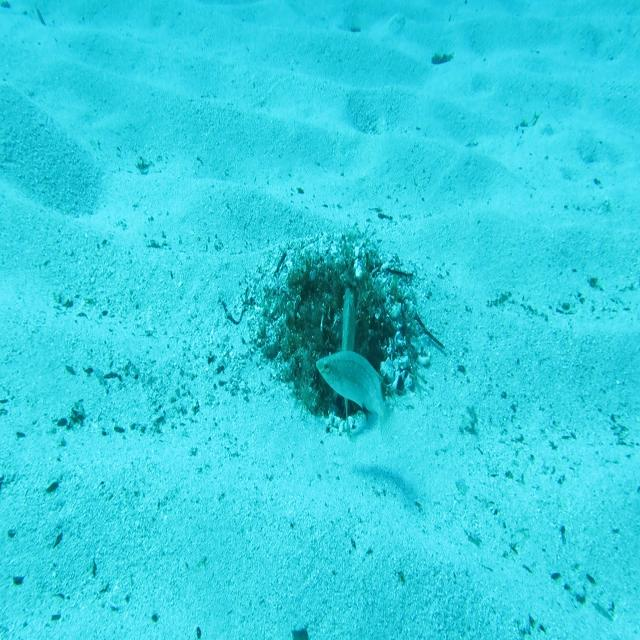FAN: (332, 284, 362, 448)
core_nest: (310, 272, 354, 305)
female: (314, 347, 400, 455)
nest: (239, 220, 437, 451)
vegetation: (430, 48, 453, 66)
